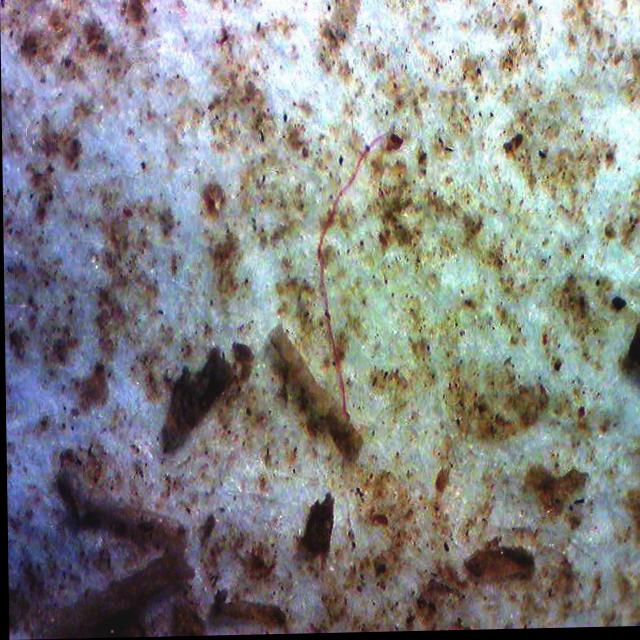microplastic: (295, 130, 381, 418)
